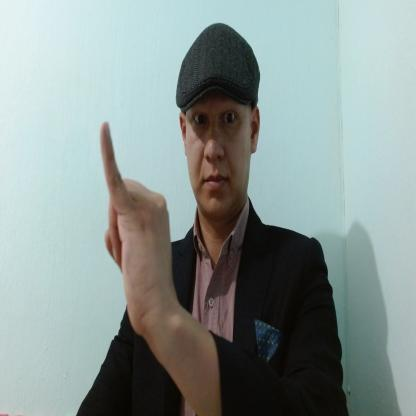I: (99, 120, 172, 334)
